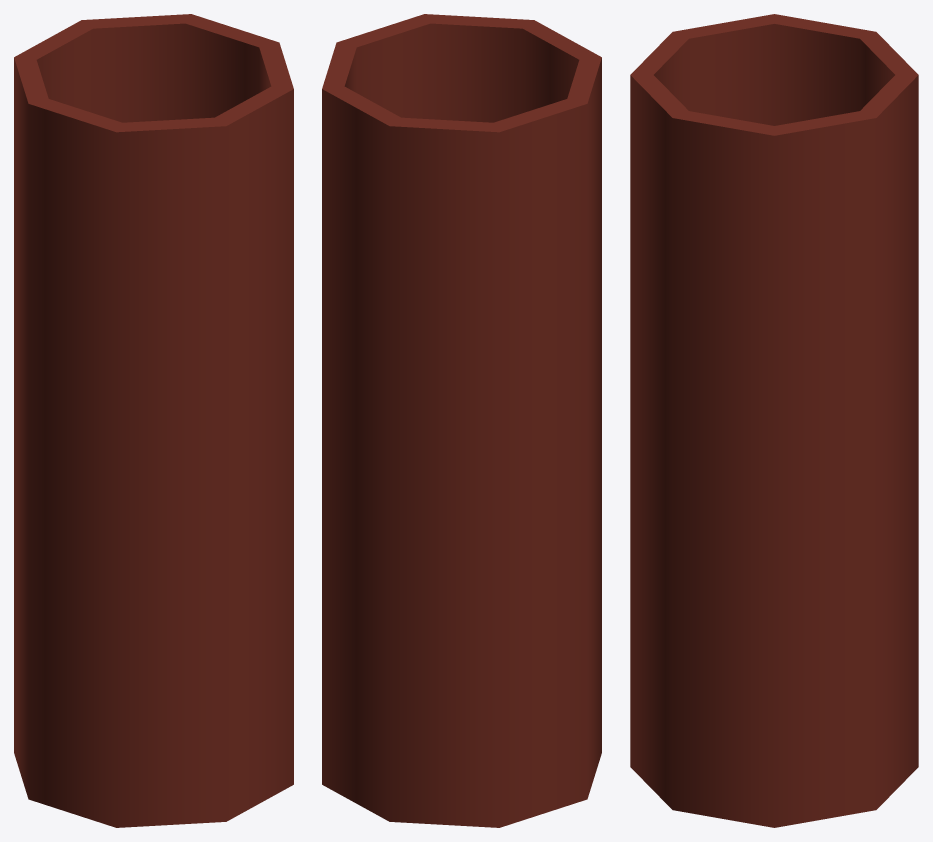
Rendered from TestBloodVessel.fbx.
3 renders of one model, left to right at view 1: azimuth 30°, elevation 25°; view 2: azimuth 150°, elevation 25°; view 3: azimuth 270°, elevation 25°, orthographic.
Parts seen in each view (by area): view 1: Tube003; view 2: Tube003; view 3: Tube003.
Part boxes in pixels (x1,y1,x2,y2): Tube003: (14,14,293,827); Tube003: (322,14,601,827); Tube003: (630,14,918,827).
Bounding box in the file's own units: 151 × 400 × 151.
